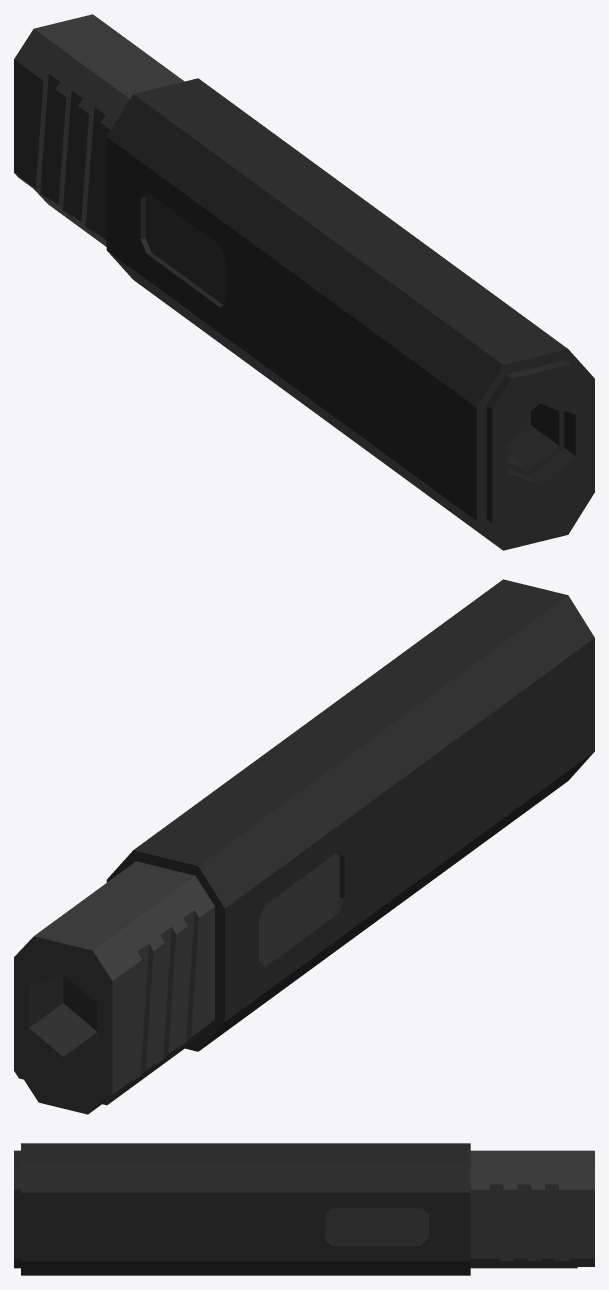
File: Muzzle_Pistol_Suppressor_B.fbx
3 views of the same model, one above another, from view 1: azimuth 30°, elevation 25°; view 2: azimuth 150°, elevation 25°; view 3: azimuth 270°, elevation 25° (orthographic). The views are drawn at different scales.
Visible parts, largest first — view 1: Muzzle_Pistol_Suppressor_B; view 2: Muzzle_Pistol_Suppressor_B; view 3: Muzzle_Pistol_Suppressor_B.
Boxes of the visible parts, box(x1,y1,x2,y2) form: Muzzle_Pistol_Suppressor_B: box(14, 14, 594, 550); Muzzle_Pistol_Suppressor_B: box(14, 579, 594, 1114); Muzzle_Pistol_Suppressor_B: box(14, 1143, 594, 1275).
Bounding box in the file's own units: 0.03 × 0.045 × 0.21.
